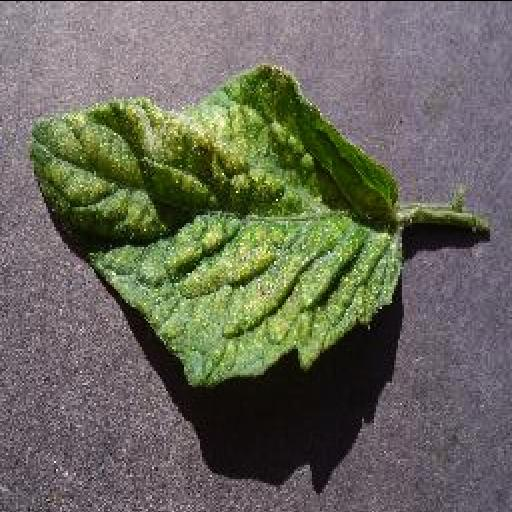disease_tomato: (30, 66, 404, 388)
